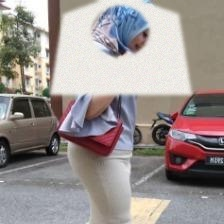Mukena: (49, 0, 192, 94)
